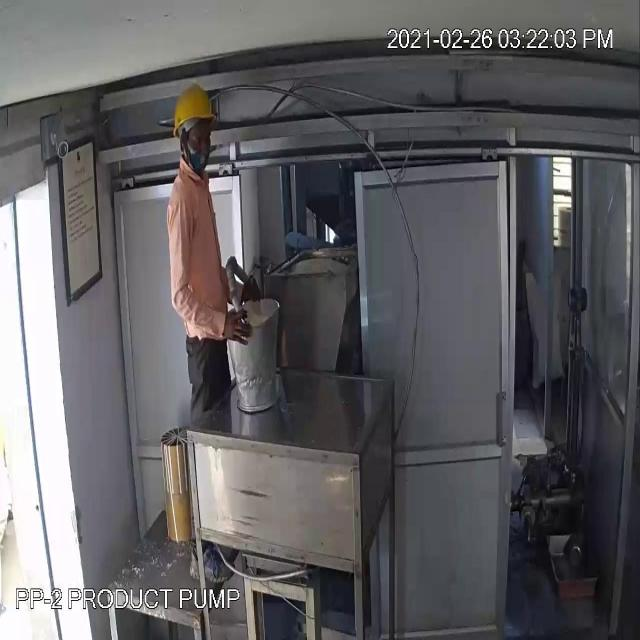helmet: (164, 81, 228, 147)
